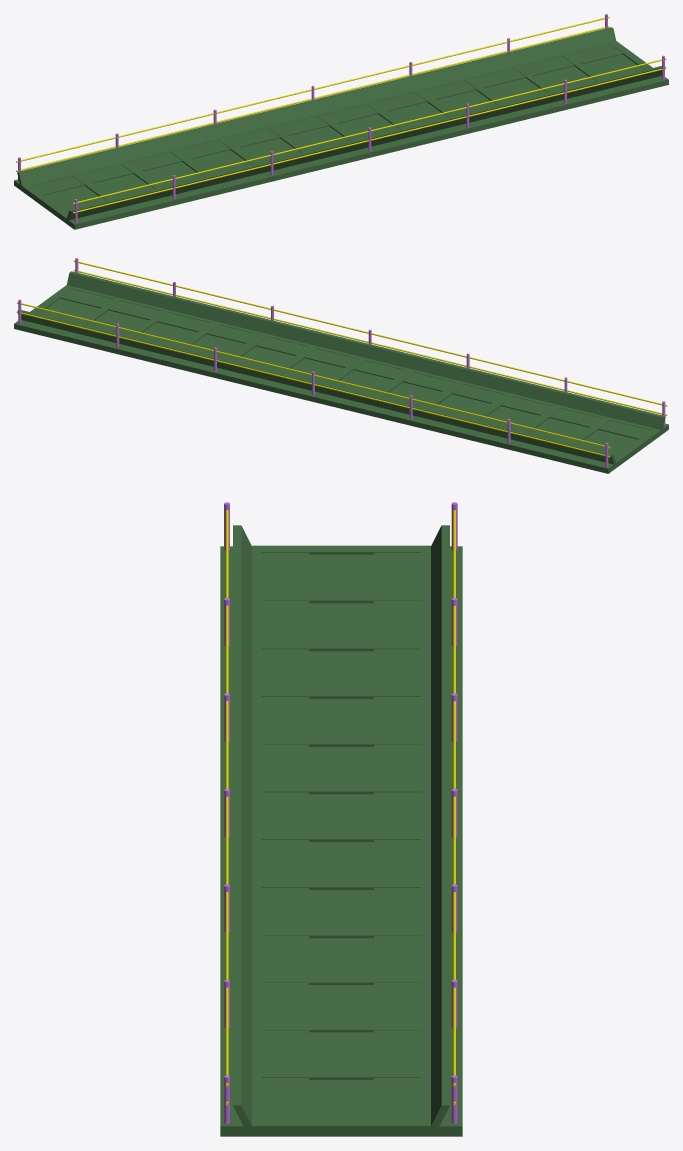
The model's file is LongViewingPlatform_V1.fbx.
The picture shows the model from 3 angles, top to bottom: view 1: azimuth 30°, elevation 25°; view 2: azimuth 150°, elevation 25°; view 3: azimuth 270°, elevation 25°; orthographic projection. The views are drawn at different scales.
Parts seen in each view (by area): view 1: ViewingPlatform_LongRails2; view 2: ViewingPlatform_LongRails2; view 3: ViewingPlatform_LongRails2.
Boxes of the visible parts, x1,y1,x2,y2 form: ViewingPlatform_LongRails2: (14,14,668,229); ViewingPlatform_LongRails2: (14,258,668,473); ViewingPlatform_LongRails2: (220,502,462,1136).
Size of the model in its own units: 122 by 5.7 by 21.45.
